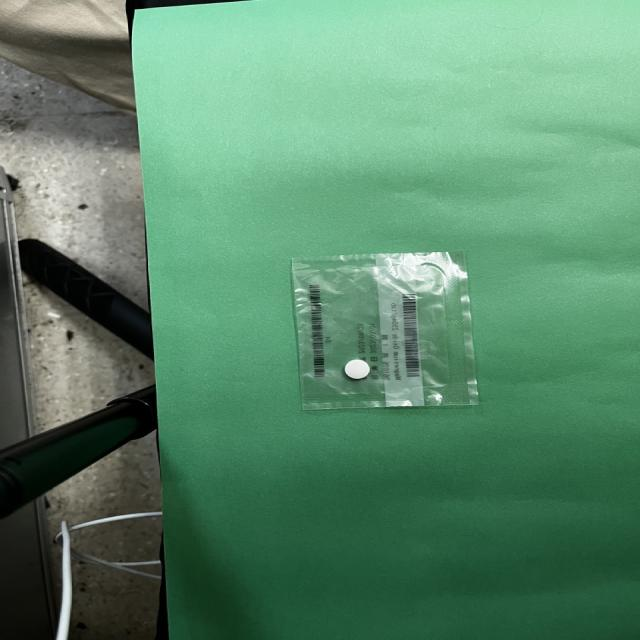Other Objects: (291, 252, 478, 410)
